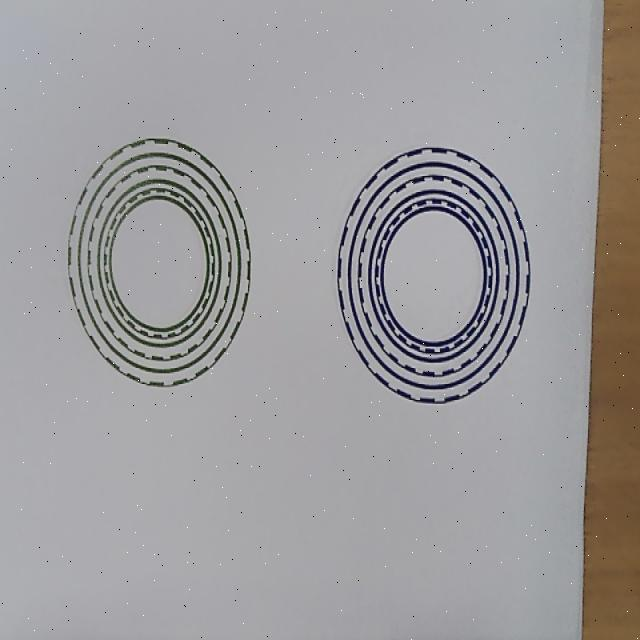b: (337, 145, 531, 404)
g: (67, 136, 252, 388)
